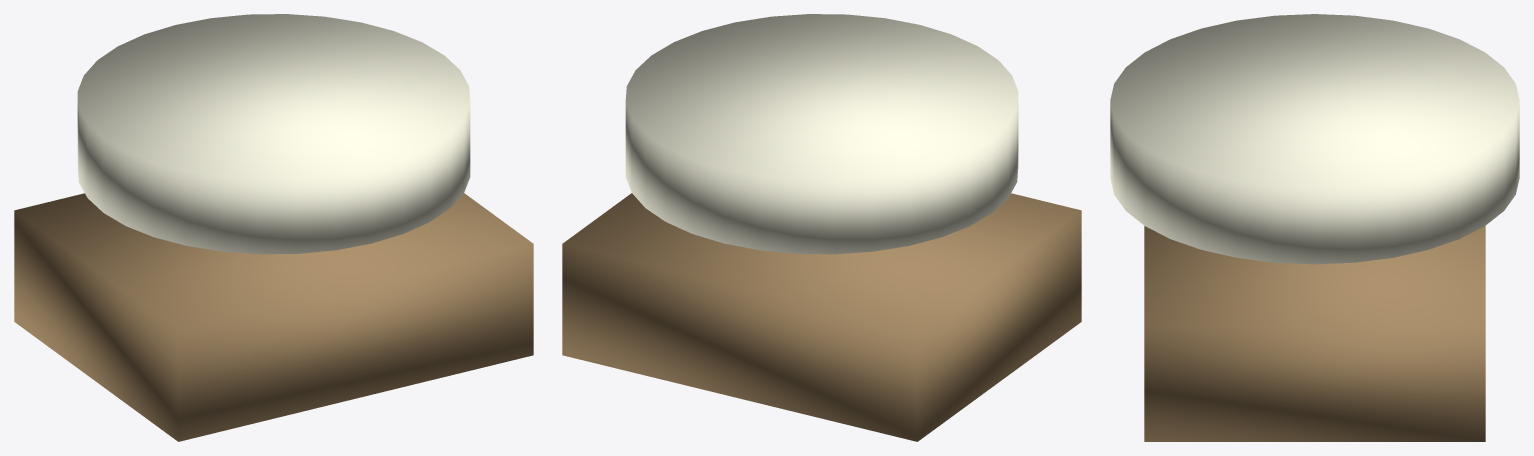
The model's file is fur_coat.glb.
3 views of the same model, side by side, from view 1: azimuth 30°, elevation 25°; view 2: azimuth 150°, elevation 25°; view 3: azimuth 270°, elevation 25° (orthographic). The views are drawn at different scales.
Parts seen in each view (by area): view 1: FurCoat, Collar; view 2: FurCoat, Collar; view 3: Collar, FurCoat.
Boxes of the visible parts, bbox=[...] form: FurCoat: bbox=[14, 193, 533, 441]; Collar: bbox=[77, 14, 470, 254]; FurCoat: bbox=[562, 193, 1081, 441]; Collar: bbox=[625, 14, 1018, 254]; Collar: bbox=[1110, 14, 1519, 264]; FurCoat: bbox=[1144, 226, 1485, 441].
Size of the model in its own units: 0.25 by 0.1625 by 0.24.
